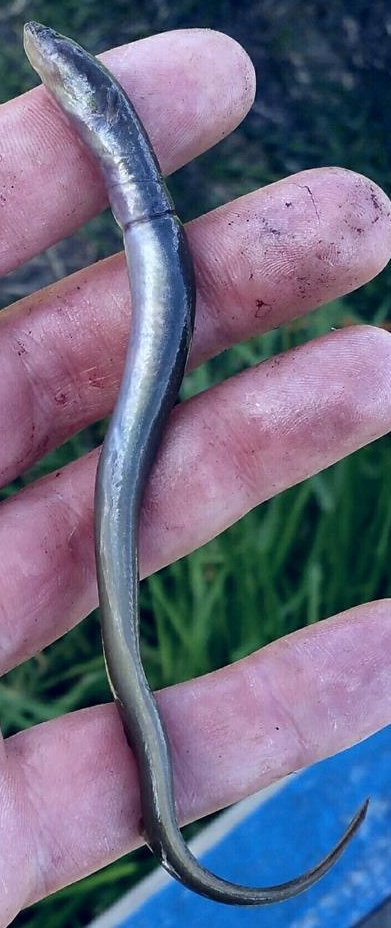Anguilla anguilla: (20, 20, 371, 908)
